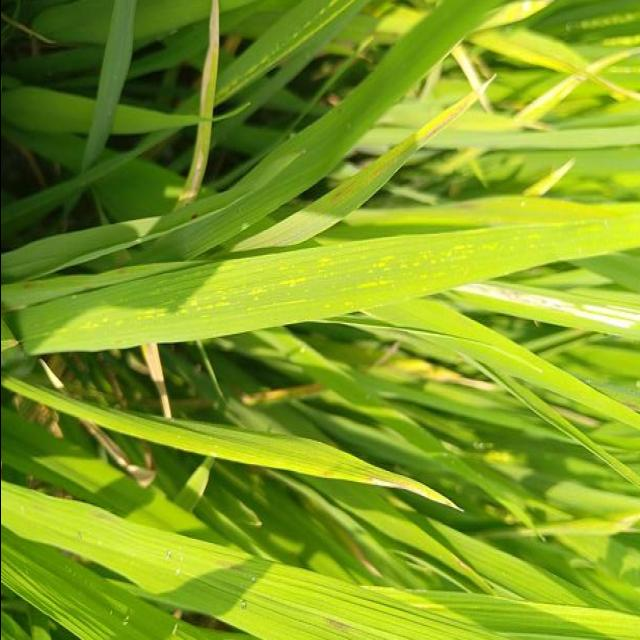Leaf Streak: (140, 229, 522, 323), (177, 0, 217, 206), (455, 283, 640, 327)
